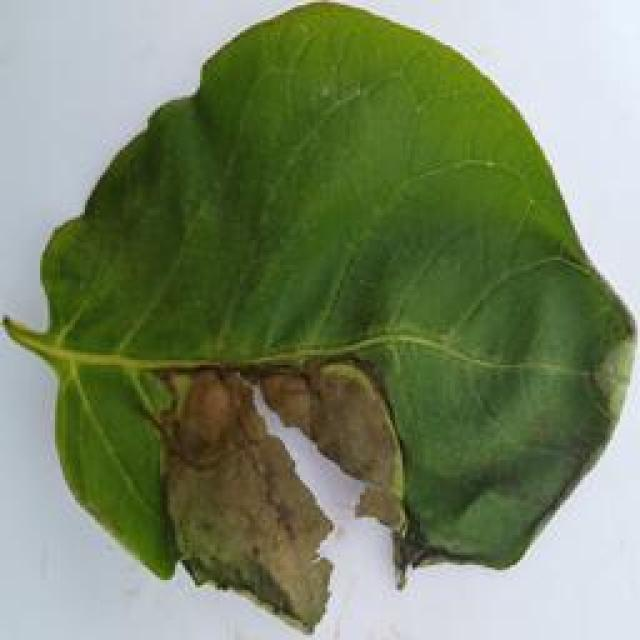Potato_Late_Blight: (5, 4, 625, 628)
